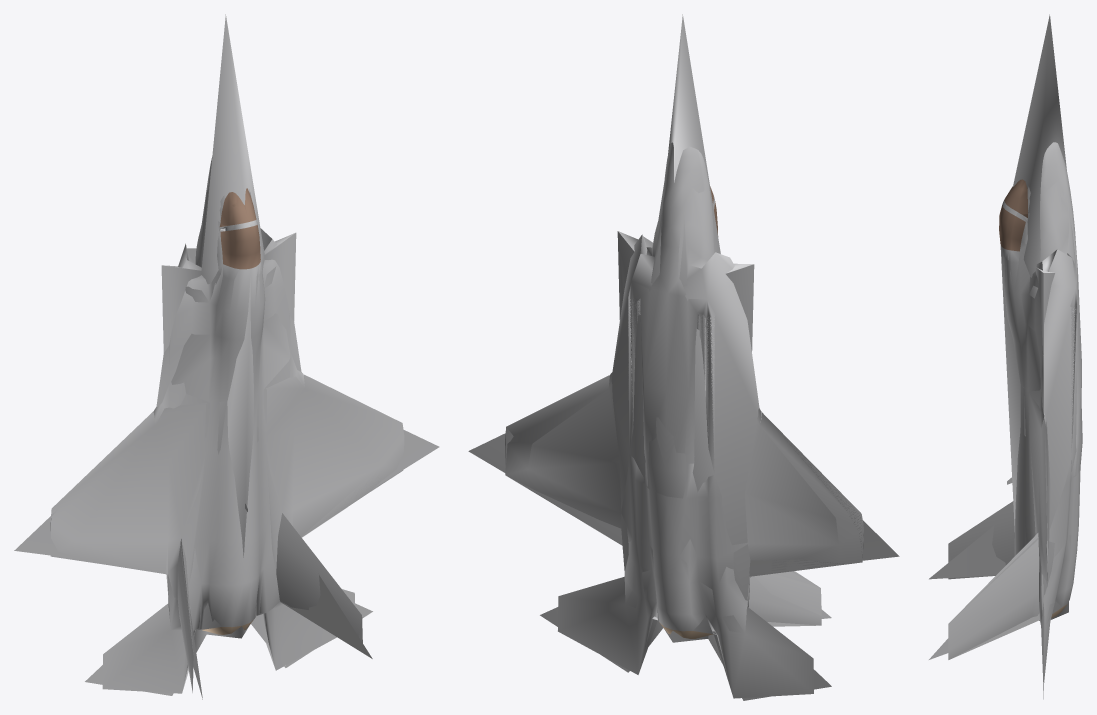
3 renders of one model, left to right at view 1: azimuth 30°, elevation 25°; view 2: azimuth 150°, elevation 25°; view 3: azimuth 270°, elevation 25°, orthographic. The views are drawn at different scales.
Parts seen in each view (by area): view 1: db_f35a_damage_undamag_tod_day_newLOD_LOD child0_fuse_p45294_8_G, db_f35a_damage_undamag_tod_day_newLOD_LOD child0_fuse2_p42209_8_, db_f35a_damage_undamag_tod_day_newLOD_LOD child0_fuse6_p42459_19, db_f35a_damage_undamag_tod_day_stabport_l29_2_LOD child0_stabp_p, db_f35a_damage_undamag_tod_day_newLOD_LOD child0_fuse5_p26535_15, db_f35a_damage_undamag_tod_day_newLOD_LOD child0_fuse3_p15207_41, db_f35a_damage_undamag_tod_day_stabstar_l29_3_LOD child0_stabs_p, db_f35a_damage_undamag_tod_day_flapport_l29_6_LOD child0_flapp_p, db_f35a_damage_undamag_tod_day_newLOD_LOD child0_fuse_canopy_p27, db_f35a_damage_undamag_tod_day_flapstar_l30_7_LOD child0_flaps2_, db_f35a_damage_undamag_tod_day_slatport_l29_4_LOD child0_slatp_p, db_f35a_damage_undamag_tod_day_slatstar_l29_5_LOD child0_slats_p (+1 smaller); view 2: db_f35a_damage_undamag_tod_day_newLOD_LOD child0_fuse_p45294_8_G, db_f35a_damage_undamag_tod_day_newLOD_LOD child0_fuse2_p42209_8_, db_f35a_damage_undamag_tod_day_newLOD_LOD child0_fuse4_p15174_18, db_f35a_damage_undamag_tod_day_newLOD_LOD child0_fuse6_p42459_19, db_f35a_damage_undamag_tod_day_newLOD_LOD child0_fuse5_p26535_15, db_f35a_damage_undamag_tod_day_stabport_l29_2_LOD child0_stabp_p, db_f35a_damage_undamag_tod_day_stabstar_l29_3_LOD child0_stabs_p, db_f35a_damage_undamag_tod_day_flapstar_l30_7_LOD child0_flaps2_, db_f35a_damage_undamag_tod_day_flapport_l29_6_LOD child0_flapp_p, db_f35a_damage_undamag_tod_day_slatstar_l29_5_LOD child0_slats_p, db_f35a_damage_undamag_tod_day_baypodoor_l17_2_LOD child0_powbd_, db_f35a_damage_undamag_tod_day_slatport_l29_4_LOD child0_slatp_p; view 3: db_f35a_damage_undamag_tod_day_newLOD_LOD child0_fuse_p45294_8_G, db_f35a_damage_undamag_tod_day_newLOD_LOD child0_fuse6_p42459_19, db_f35a_damage_undamag_tod_day_newLOD_LOD child0_fuse2_p42209_8_, db_f35a_damage_undamag_tod_day_newLOD_LOD child0_fuse4_p15174_18, db_f35a_damage_undamag_tod_day_newLOD_LOD child0_fuse5_p26535_15, db_f35a_damage_undamag_tod_day_newLOD_LOD child0_fuse_canopy_p27, db_f35a_damage_undamag_tod_day_rudderstar_l29_1_LOD child0_ruds_, db_f35a_damage_undamag_tod_day_newLOD_LOD child0_fuse3_p15207_41, db_f35a_damage_undamag_tod_day_baysodoor_l17_LOD child0_sowbd_p4, db_f35a_damage_undamag_tod_day_slatstar_l29_5_LOD child0_slats_p, db_f35a_damage_undamag_tod_day_stabstar_l29_3_LOD child0_stabs_p.
Part boxes in pixels (<box>): db_f35a_damage_undamag_tod_day_newLOD_LOD child0_fuse_p45294_8_G: <box>50,157,404,680</box>; db_f35a_damage_undamag_tod_day_newLOD_LOD child0_fuse2_p42209_8_: <box>155,181,305,683</box>; db_f35a_damage_undamag_tod_day_newLOD_LOD child0_fuse6_p42459_19: <box>14,14,439,699</box>; db_f35a_damage_undamag_tod_day_stabport_l29_2_LOD child0_stabp_p: <box>102,603,195,693</box>; db_f35a_damage_undamag_tod_day_newLOD_LOD child0_fuse5_p26535_15: <box>180,273,275,690</box>; db_f35a_damage_undamag_tod_day_newLOD_LOD child0_fuse3_p15207_41: <box>156,221,301,587</box>; db_f35a_damage_undamag_tod_day_stabstar_l29_3_LOD child0_stabs_p: <box>262,589,354,670</box>; db_f35a_damage_undamag_tod_day_flapport_l29_6_LOD child0_flapp_p: <box>74,540,167,573</box>; db_f35a_damage_undamag_tod_day_newLOD_LOD child0_fuse_canopy_p27: <box>220,188,260,269</box>; db_f35a_damage_undamag_tod_day_flapstar_l30_7_LOD child0_flaps2_: <box>292,466,381,536</box>; db_f35a_damage_undamag_tod_day_slatport_l29_4_LOD child0_slatp_p: <box>50,411,155,522</box>; db_f35a_damage_undamag_tod_day_slatstar_l29_5_LOD child0_slats_p: <box>303,374,404,436</box>; db_f35a_damage_undamag_tod_day_newLOD_LOD child0_fuse_p45294_8_G: <box>505,142,863,636</box>; db_f35a_damage_undamag_tod_day_newLOD_LOD child0_fuse2_p42209_8_: <box>528,180,838,635</box>; db_f35a_damage_undamag_tod_day_newLOD_LOD child0_fuse4_p15174_18: <box>505,205,862,693</box>; db_f35a_damage_undamag_tod_day_newLOD_LOD child0_fuse6_p42459_19: <box>468,14,899,700</box>; db_f35a_damage_undamag_tod_day_newLOD_LOD child0_fuse5_p26535_15: <box>508,254,861,626</box>; db_f35a_damage_undamag_tod_day_stabport_l29_2_LOD child0_stabp_p: <box>717,606,813,698</box>; db_f35a_damage_undamag_tod_day_stabstar_l29_3_LOD child0_stabs_p: <box>558,576,652,674</box>; db_f35a_damage_undamag_tod_day_flapstar_l30_7_LOD child0_flaps2_: <box>528,469,621,528</box>; db_f35a_damage_undamag_tod_day_flapport_l29_6_LOD child0_flapp_p: <box>748,543,839,562</box>; db_f35a_damage_undamag_tod_day_slatstar_l29_5_LOD child0_slats_p: <box>505,375,609,440</box>; db_f35a_damage_undamag_tod_day_baypodoor_l17_2_LOD child0_powbd_: <box>706,315,715,473</box>; db_f35a_damage_undamag_tod_day_slatport_l29_4_LOD child0_slatp_p: <box>760,412,863,527</box>; db_f35a_damage_undamag_tod_day_newLOD_LOD child0_fuse_p45294_8_G: <box>948,142,1081,650</box>; db_f35a_damage_undamag_tod_day_newLOD_LOD child0_fuse6_p42459_19: <box>929,14,1068,659</box>; db_f35a_damage_undamag_tod_day_newLOD_LOD child0_fuse2_p42209_8_: <box>1000,178,1078,625</box>; db_f35a_damage_undamag_tod_day_newLOD_LOD child0_fuse4_p15174_18: <box>948,198,1082,613</box>; db_f35a_damage_undamag_tod_day_newLOD_LOD child0_fuse5_p26535_15: <box>950,248,1082,659</box>; db_f35a_damage_undamag_tod_day_newLOD_LOD child0_fuse_canopy_p27: <box>999,179,1027,251</box>; db_f35a_damage_undamag_tod_day_rudderstar_l29_1_LOD child0_ruds_: <box>948,610,1032,659</box>; db_f35a_damage_undamag_tod_day_newLOD_LOD child0_fuse3_p15207_41: <box>1022,185,1043,582</box>; db_f35a_damage_undamag_tod_day_baysodoor_l17_LOD child0_sowbd_p4: <box>1070,304,1076,457</box>; db_f35a_damage_undamag_tod_day_slatstar_l29_5_LOD child0_slats_p: <box>1041,418,1047,551</box>; db_f35a_damage_undamag_tod_day_stabstar_l29_3_LOD child0_stabs_p: <box>1041,602,1049,699</box>.
Bounding box in the file's own units: 10.8 × 16.15 × 3.48.
